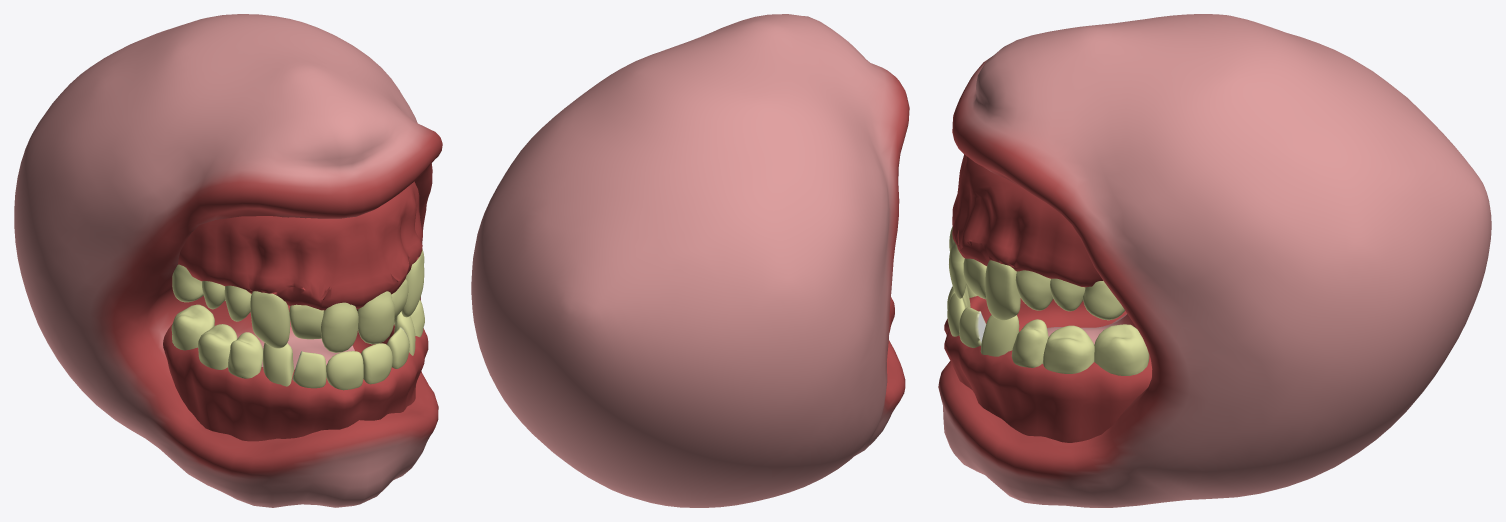
The model's file is proj resonance model enemy teef 1.fbx.
3 renders of one model, left to right at view 1: azimuth 30°, elevation 25°; view 2: azimuth 150°, elevation 25°; view 3: azimuth 270°, elevation 25°, orthographic. The views are drawn at different scales.
Visible parts, largest first — view 1: TEEF; view 2: TEEF; view 3: TEEF.
Part boxes in pixels (x1=…): TEEF: x1=14, y1=14, x2=442, y2=507; TEEF: x1=471, y1=14, x2=909, y2=507; TEEF: x1=938, y1=14, x2=1491, y2=507.
Size of the model in its own units: 149 by 160 by 182.
